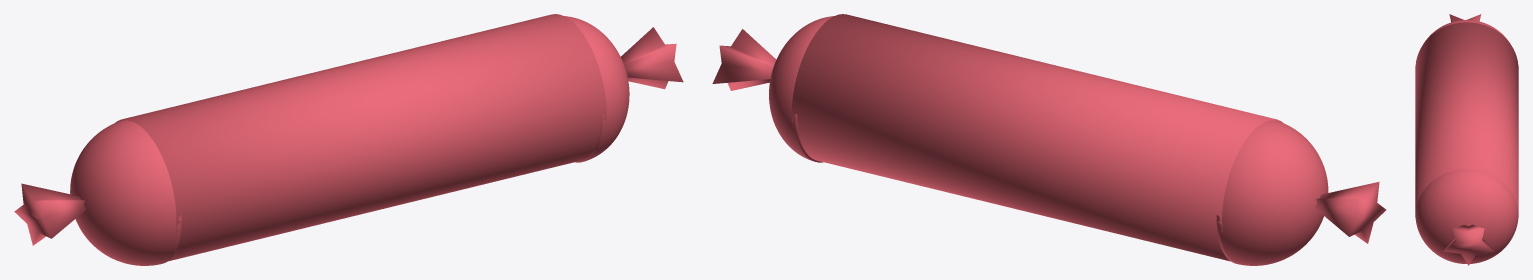
The model's file is sausage.dae.
3 renders of one model, left to right at view 1: azimuth 30°, elevation 25°; view 2: azimuth 150°, elevation 25°; view 3: azimuth 270°, elevation 25°, orthographic. The views are drawn at different scales.
Visible parts, largest first — view 1: RV65TCQCE; view 2: RV65TCQCE; view 3: RV65TCQCE.
Boxes of the visible parts, left/top/right/bottom form: RV65TCQCE: left=14, top=14, right=683, bottom=265; RV65TCQCE: left=712, top=14, right=1386, bottom=265; RV65TCQCE: left=1415, top=14, right=1518, bottom=265.
Bounding box in the file's own units: 295 × 60 × 60.77.
